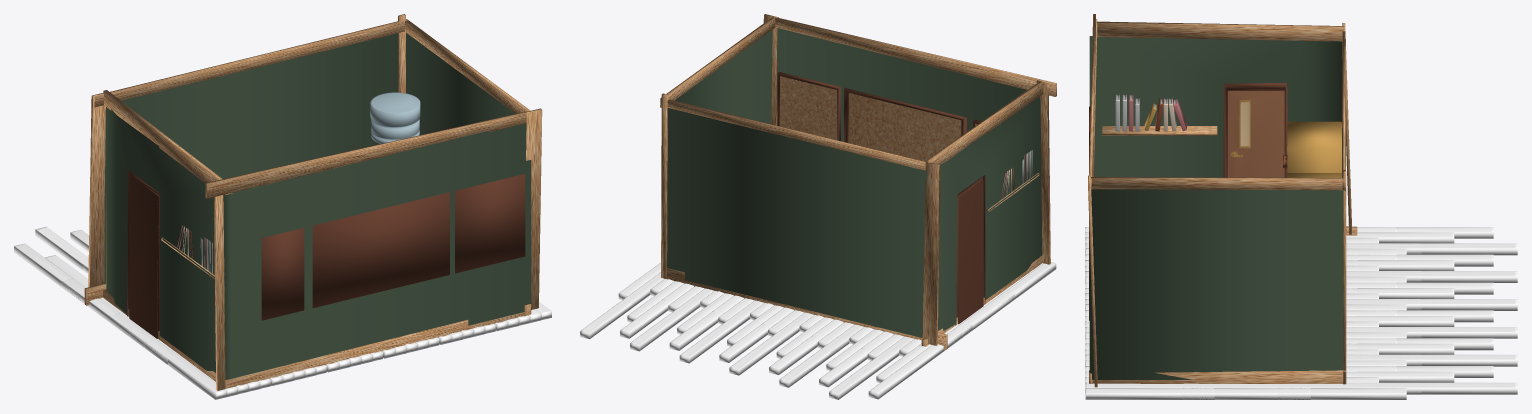
File: firedOffice.glb
3 views of the same model, side by side, from view 1: azimuth 30°, elevation 25°; view 2: azimuth 150°, elevation 25°; view 3: azimuth 270°, elevation 25° (orthographic). The views are drawn at different scales.
Parts seen in each view (by area): view 1: GreenWalls, WoodFrame, CorkFrame, Flooring, Door, WaterTank, DoorFrame; view 2: GreenWalls, Flooring, WoodFrame, corkboard, Door, CorkFrame, DoorFrame; view 3: GreenWalls, Flooring, WoodFrame, Door, SmallCabinet.001, DoorFrame, plank.
Part boxes in pixels (x1=…): GreenWalls: x1=104, y1=33, x2=531, y2=379; WoodFrame: x1=84, y1=14, x2=542, y2=390; CorkFrame: x1=261, y1=174, x2=525, y2=320; Flooring: x1=14, y1=226, x2=551, y2=399; Door: x1=129, y1=176, x2=159, y2=338; WaterTank: x1=370, y1=92, x2=420, y2=143; DoorFrame: x1=127, y1=170, x2=159, y2=339; GreenWalls: x1=667, y1=28, x2=1042, y2=337; Flooring: x1=580, y1=262, x2=1056, y2=399; WoodFrame: x1=660, y1=14, x2=1056, y2=349; corkboard: x1=780, y1=76, x2=977, y2=161; Door: x1=957, y1=180, x2=983, y2=323; CorkFrame: x1=777, y1=72, x2=981, y2=142; DoorFrame: x1=955, y1=175, x2=985, y2=325; GreenWalls: x1=1089, y1=36, x2=1345, y2=379; Flooring: x1=1085, y1=227, x2=1517, y2=399; WoodFrame: x1=1088, y1=14, x2=1357, y2=387; Door: x1=1227, y1=89, x2=1284, y2=177; SmallCabinet.001: x1=1282, y1=121, x2=1341, y2=172; DoorFrame: x1=1223, y1=83, x2=1287, y2=177; plank: x1=1102, y1=126, x2=1217, y2=135.
Bounding box in the file's own units: 4.94 × 2.98 × 5.35.
Materials: 6 (5 with a texture image).
